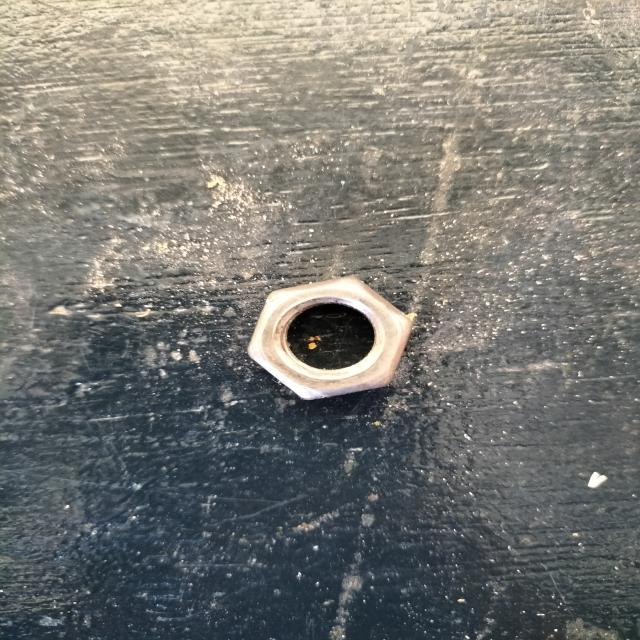nuts: (249, 276, 411, 400)
